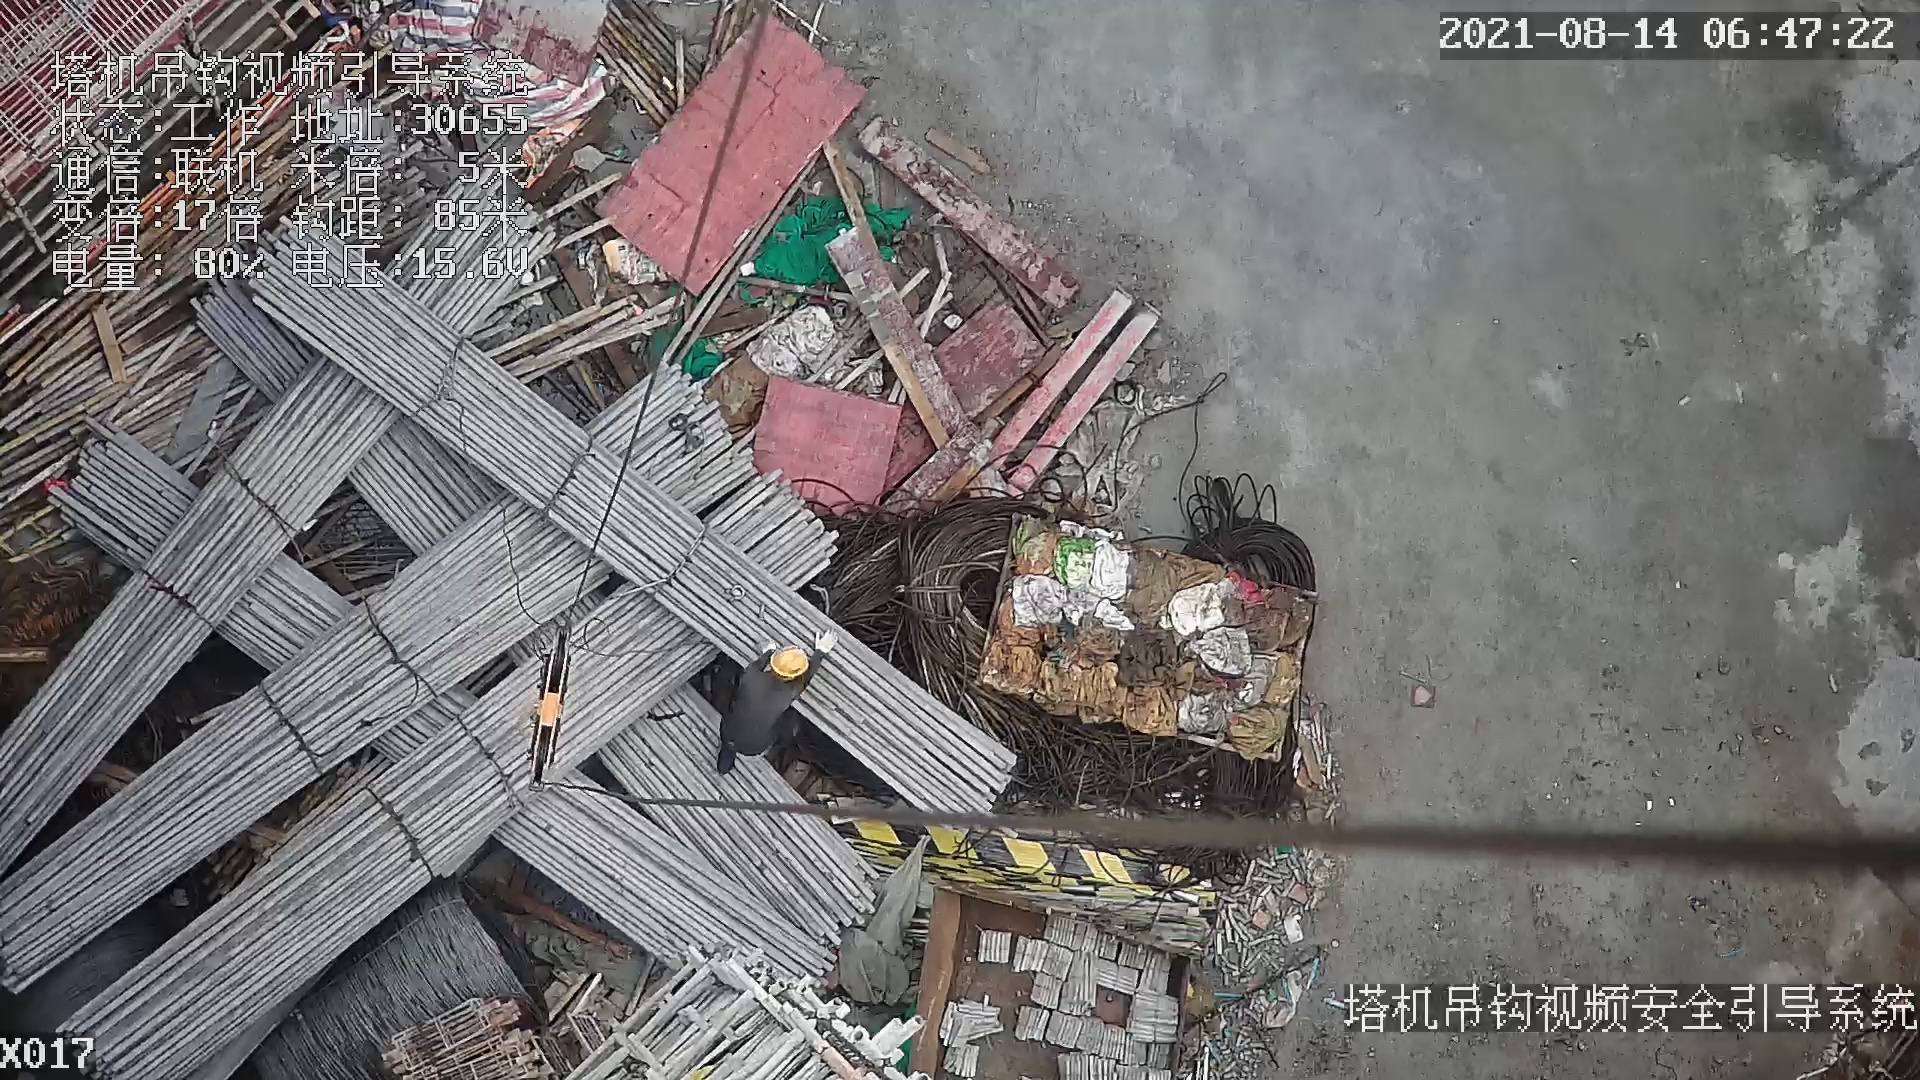board: (589, 6, 867, 297)
helmet: (771, 645, 811, 680)
hook: (520, 623, 569, 805)
person: (727, 630, 832, 777)
